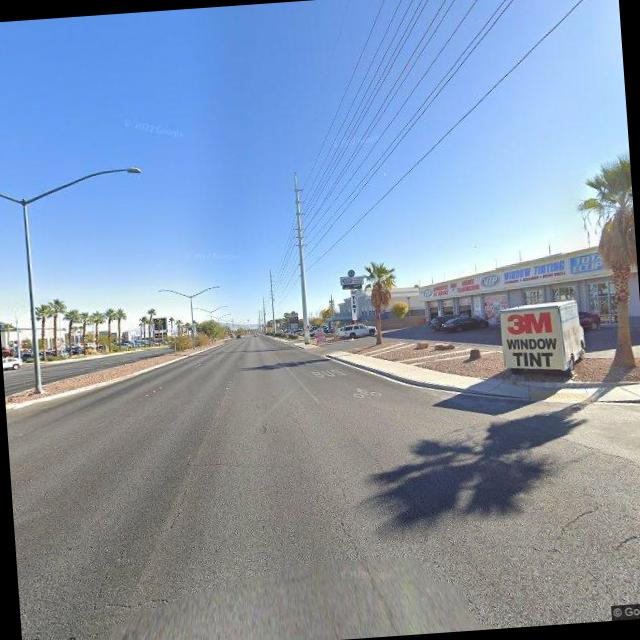pothole: (86, 468, 206, 600)
